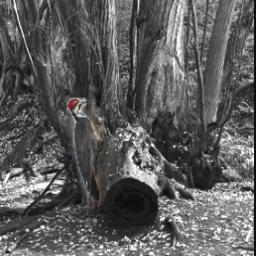Woodpecker: (66, 99, 104, 217)
